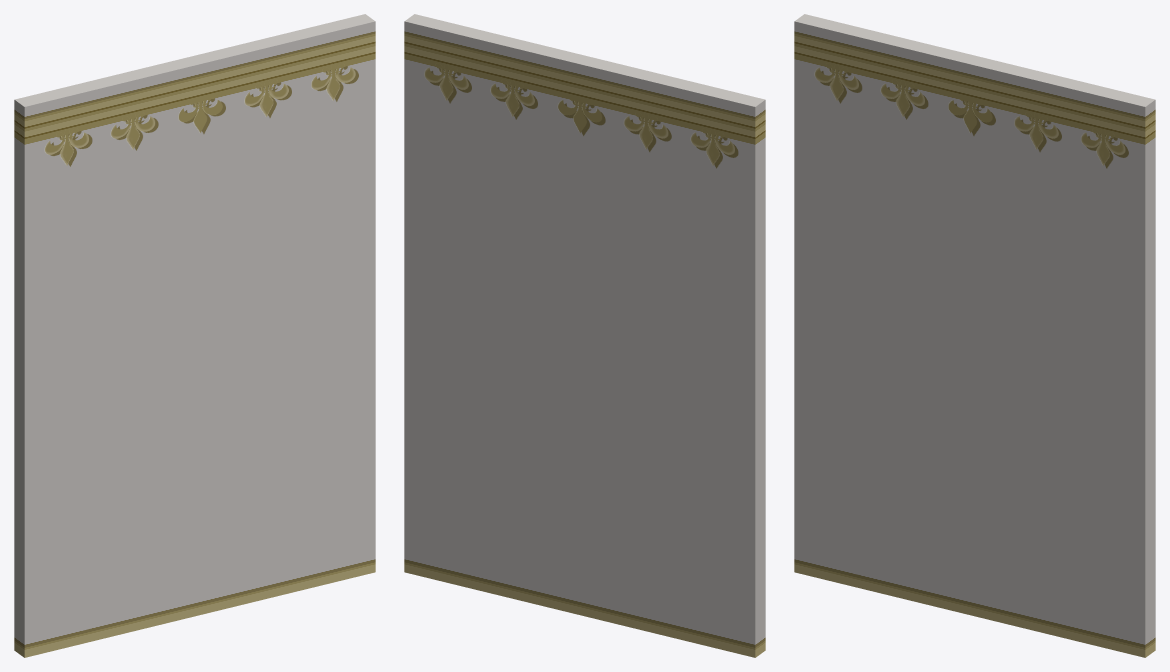
File: geo_SingleWall_01.fbx
The picture shows the model from 3 angles, left to right: view 1: azimuth 30°, elevation 25°; view 2: azimuth 150°, elevation 25°; view 3: azimuth 330°, elevation 25°; orthographic projection.
Parts seen in each view (by area): view 1: geo_SingleWallFull_01, geo_SingleWallCulled_01; view 2: geo_SingleWallFull_01, geo_SingleWallCulled_01; view 3: geo_SingleWallFull_01, geo_SingleWallCulled_01.
Part boxes in pixels (left/top/right/bottom): geo_SingleWallFull_01: left=14, top=14, right=375, bottom=584; geo_SingleWallCulled_01: left=14, top=499, right=375, bottom=657; geo_SingleWallFull_01: left=404, top=14, right=765, bottom=584; geo_SingleWallCulled_01: left=404, top=499, right=765, bottom=657; geo_SingleWallFull_01: left=794, top=14, right=1155, bottom=584; geo_SingleWallCulled_01: left=794, top=499, right=1155, bottom=657.
Bounding box in the file's own units: 100 × 150 × 5.
Materials: 1 (1 with a texture image).
